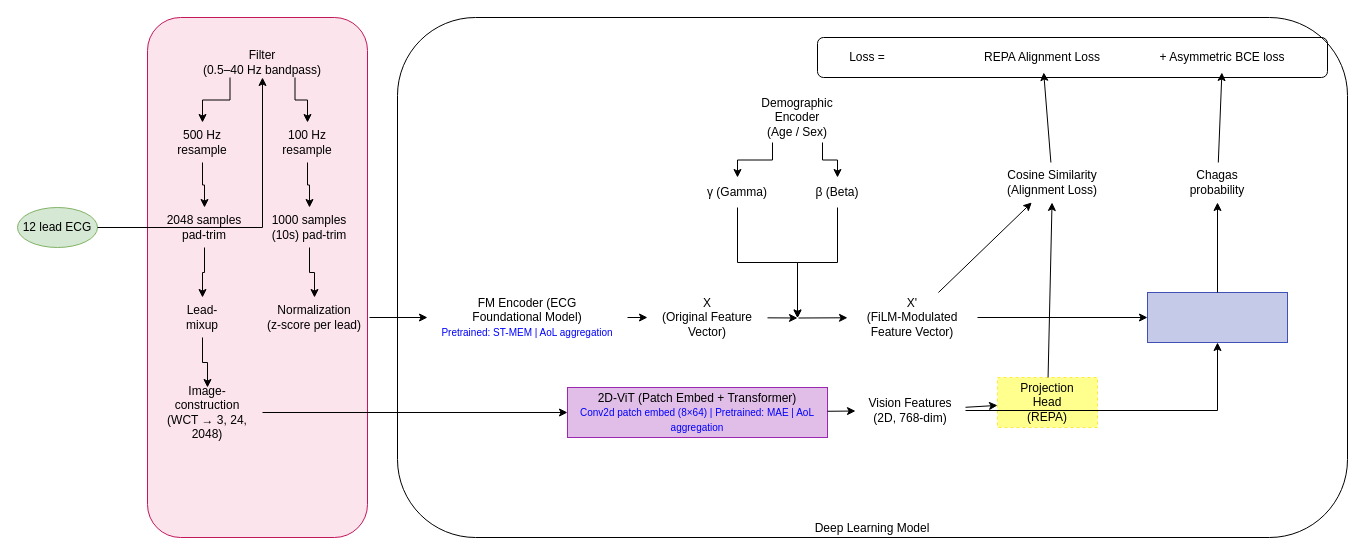
This 1365x555 diagram has some shape labels left out. The shapes that lost their labels are listed below. From the top down, each one's box as (x1, y1, x2, y2) in pixels, then its label:
(146, 16, 368, 538): Preprocessing
(1146, 292, 1288, 342): Classification Head (1536→512→256→1)
